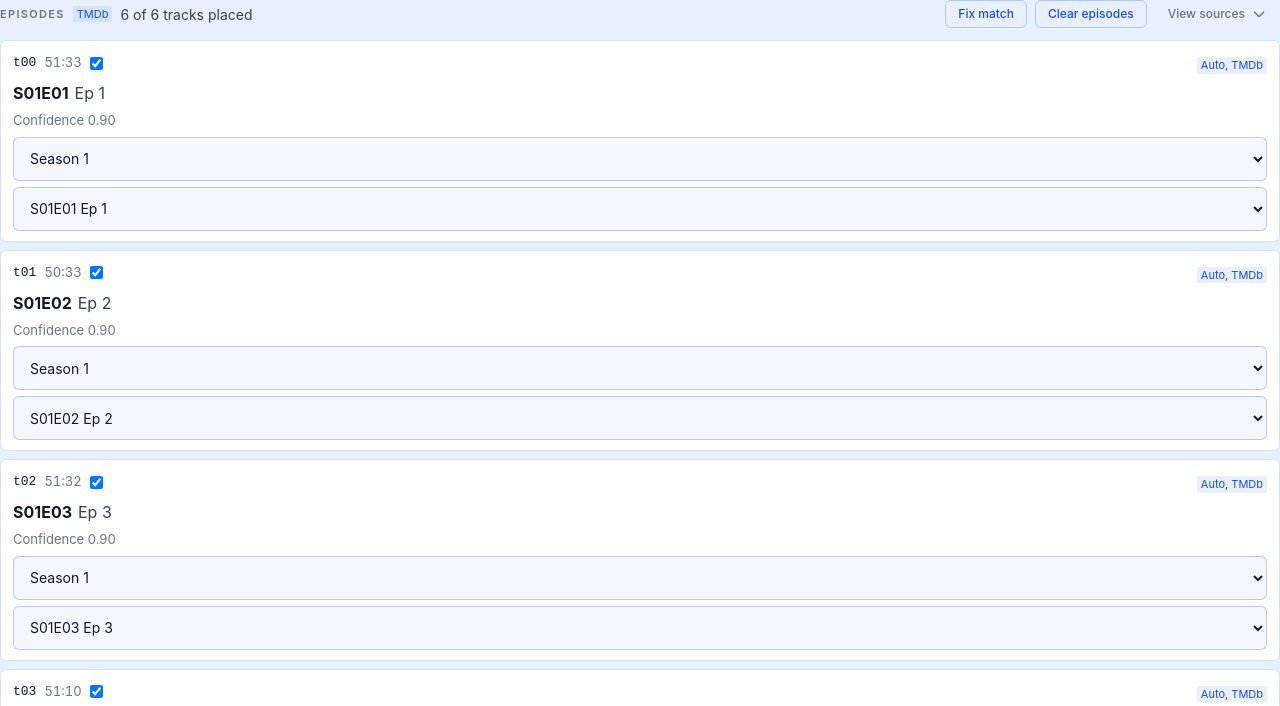
Scenario: EpisodeMatchPanel actions › shows the preview inline with the old placement struck through on a phone
Click the button "Fix match" at [986, 14], box [945,0,1027,28]
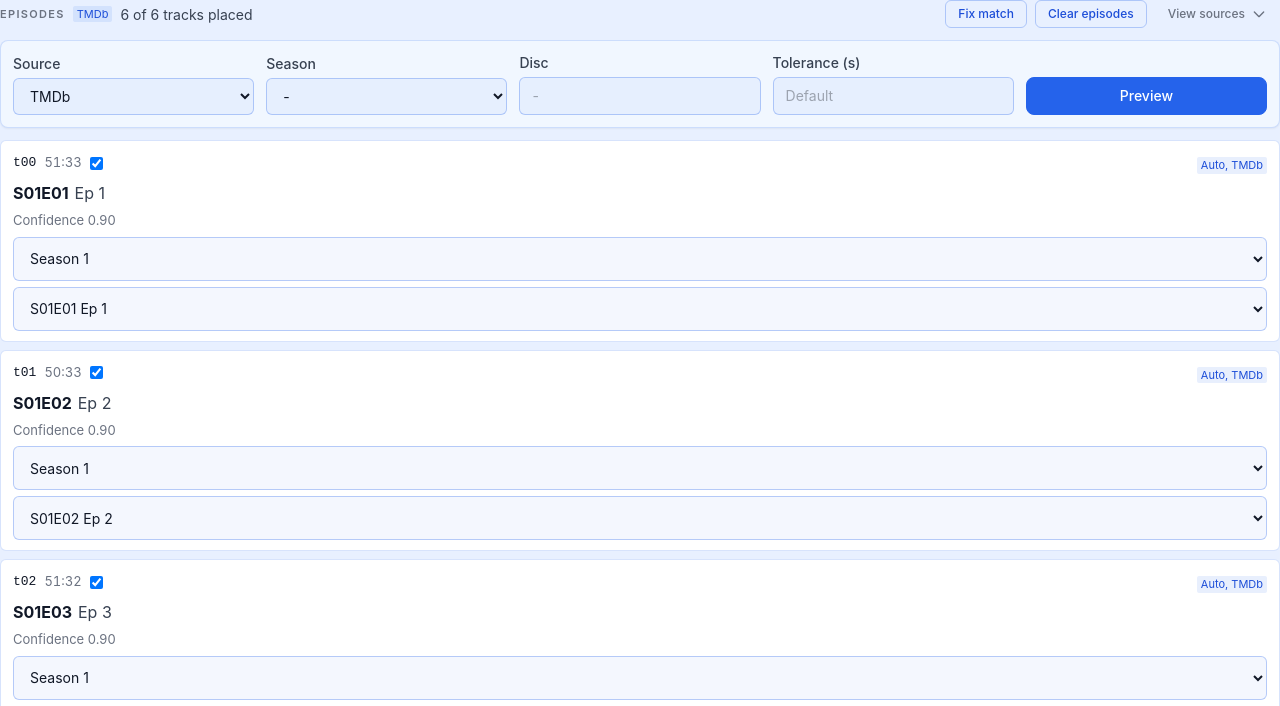
Select "TVmaze" in the dropdown labelled "Source" at [134, 96], box [13,78,254,115]
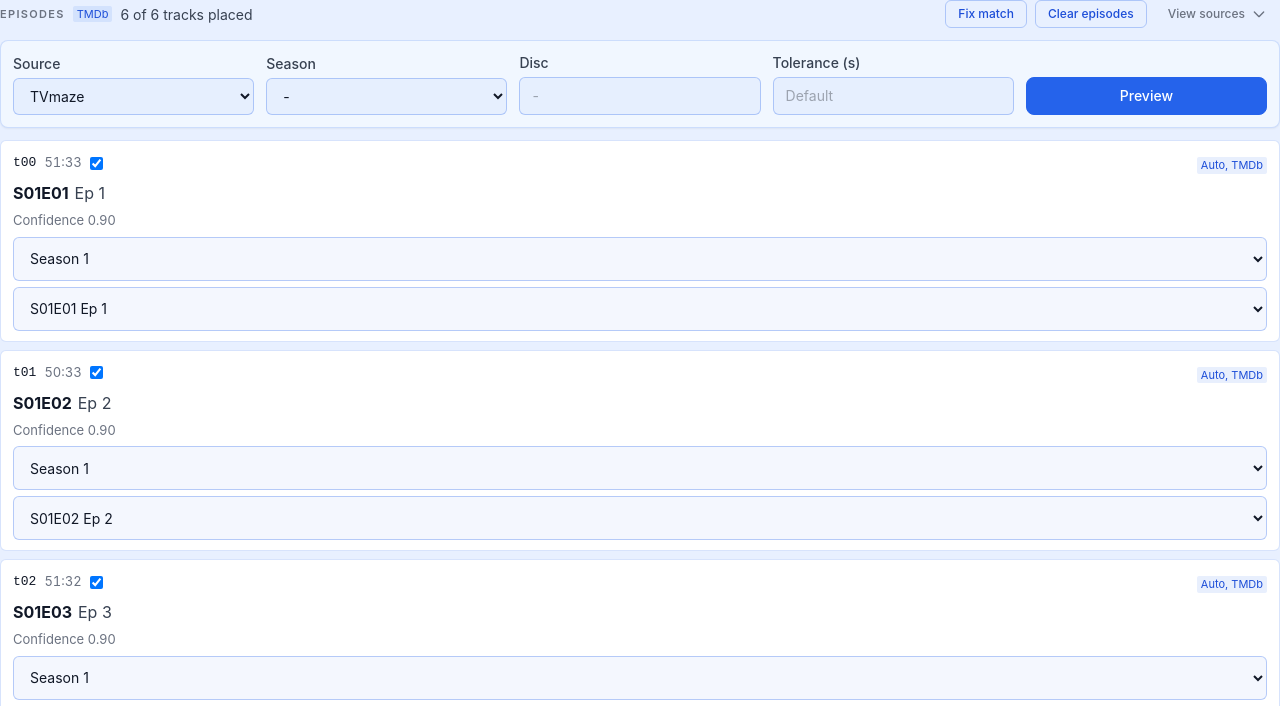
Click the button "Preview" at [1146, 96], box [1026,77,1267,115]
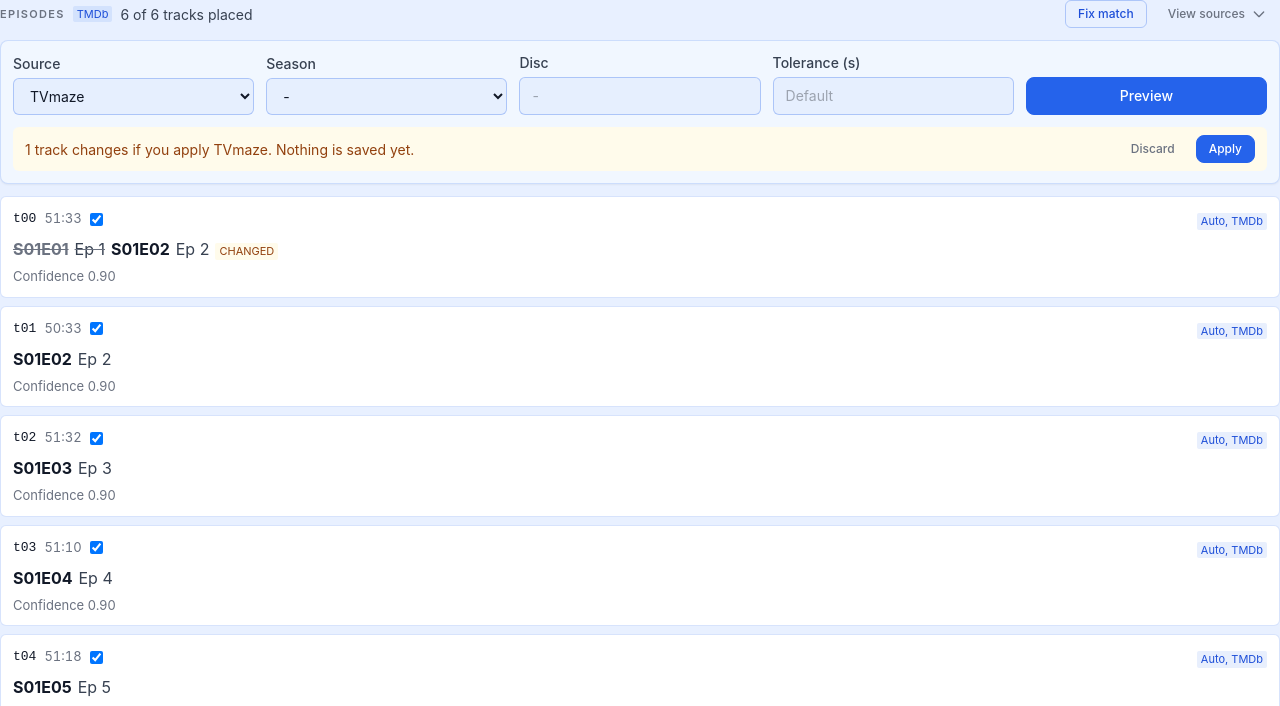
Expected: the text "S01E01" is shown, [13,239,69,259]
Expected: the text "1 track changes if you apply TVmaze. Nothing is saved yet." is shown, [25,138,414,160]
Expected: the text "S01E02" in the row of "CHANGED" is shown, [111,239,170,259]
